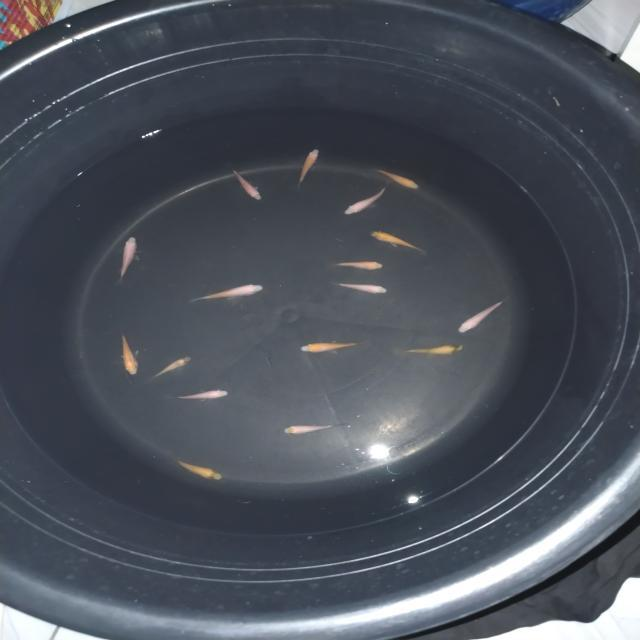nila: (454, 295, 510, 336), (367, 228, 429, 258), (342, 182, 392, 219), (186, 282, 264, 304), (172, 453, 226, 482), (369, 164, 423, 191), (144, 354, 193, 382), (227, 166, 265, 202), (114, 232, 141, 282), (114, 328, 142, 376), (296, 146, 321, 194), (281, 418, 347, 436), (394, 340, 466, 355), (327, 255, 390, 272), (332, 279, 391, 296), (296, 339, 361, 354), (166, 388, 232, 402)
